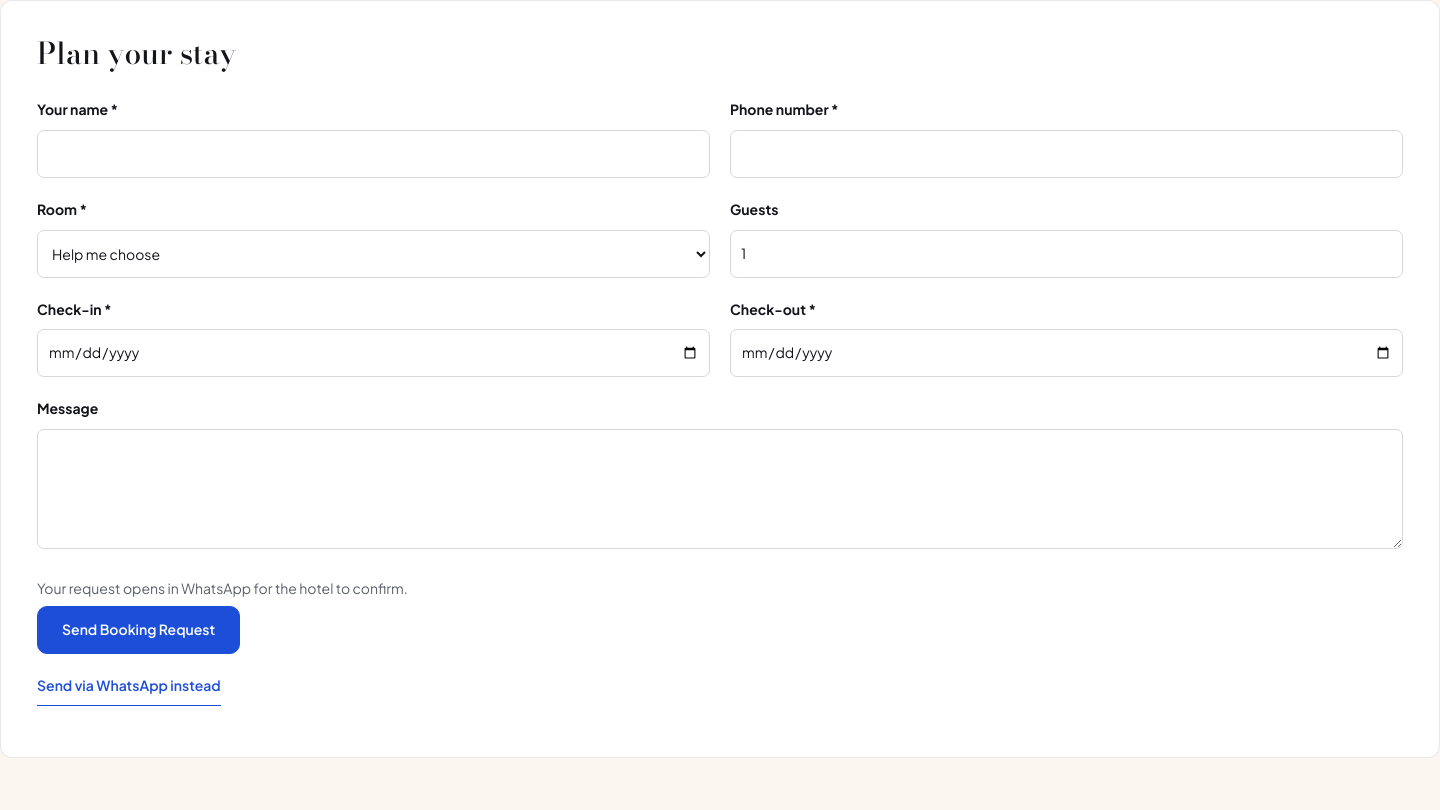
Scenario: React interactions › validates booking fields without opening WhatsApp for invalid data
Click the button "Send Booking Request": (139, 630) x1=37 y1=606 x2=240 y2=654
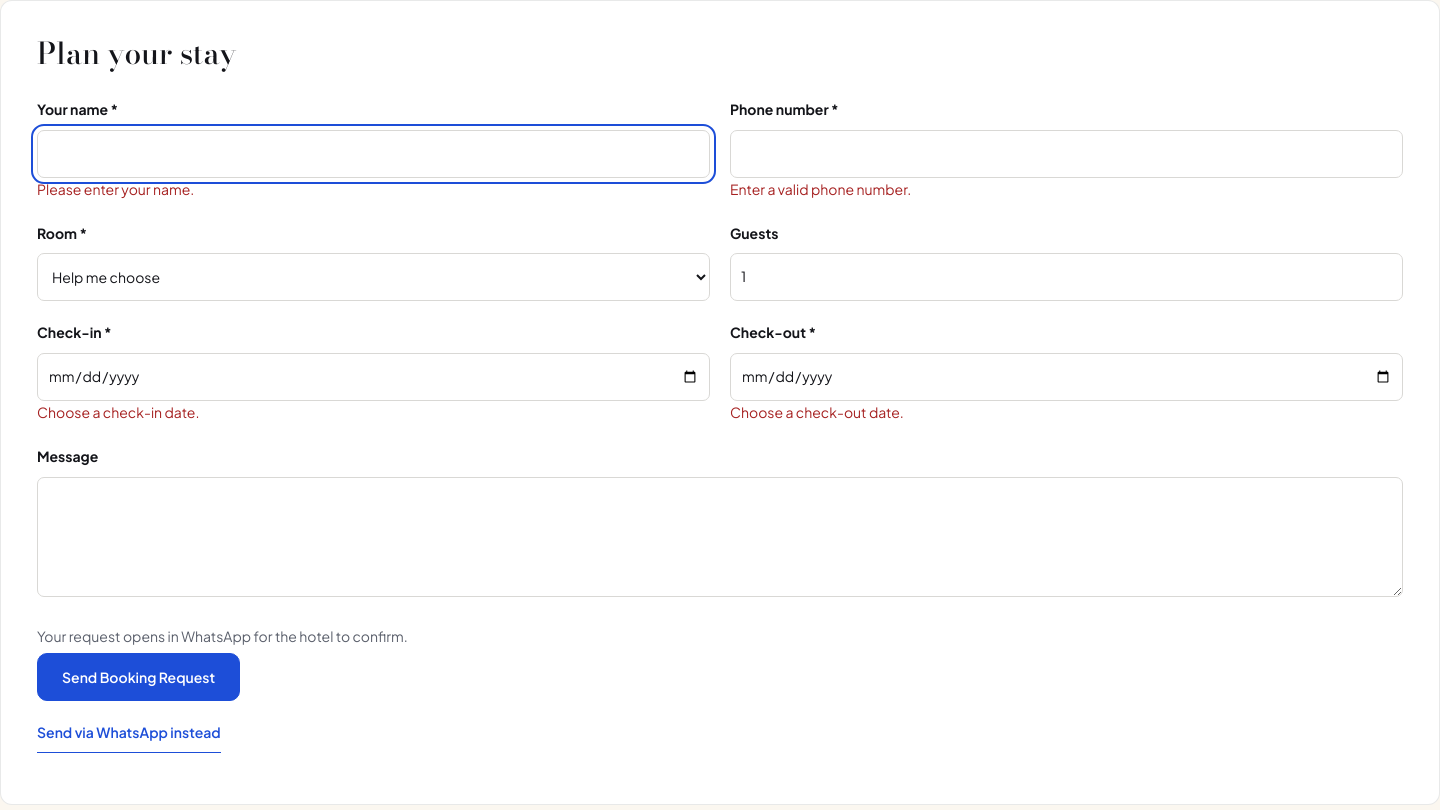
Expected: the text "Please enter your name." is shown, x1=37 y1=180 x2=194 y2=198
